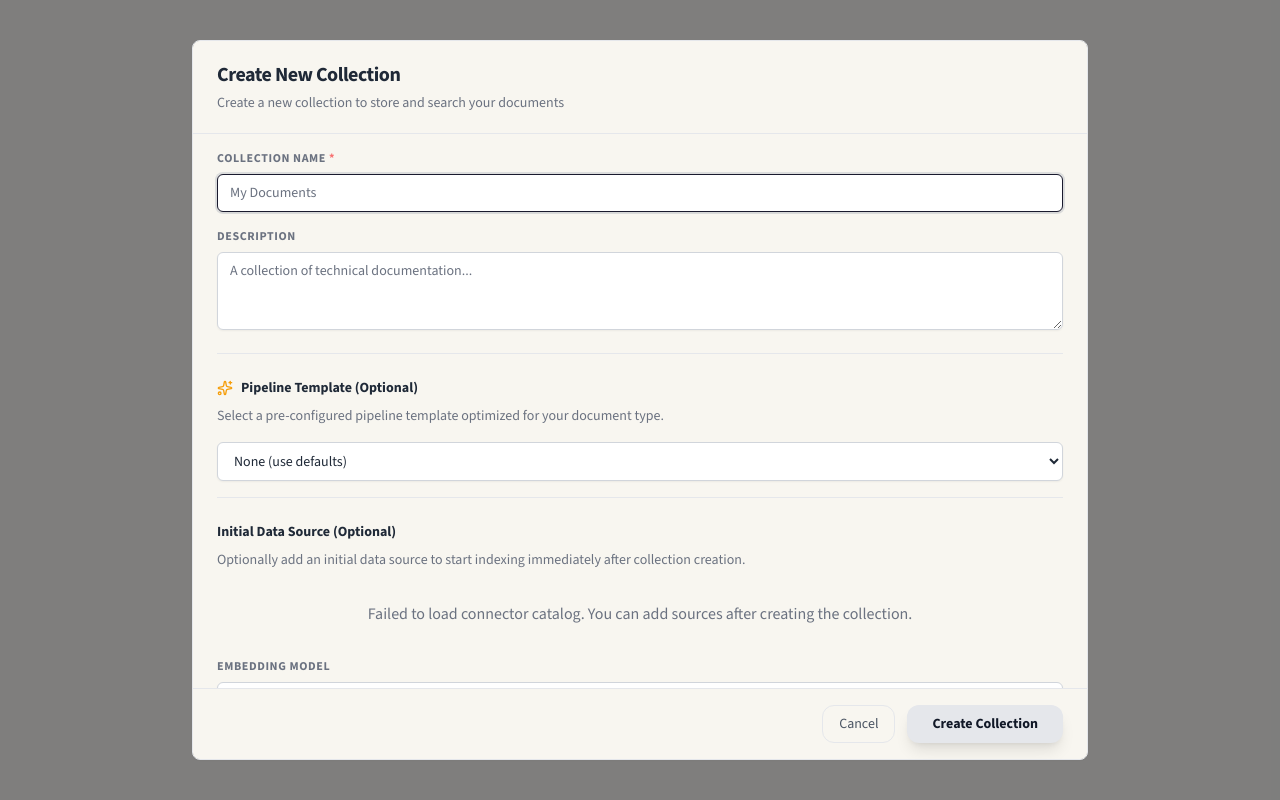
Test: UI Error States › Form Validation Error Display › should show inline validation errors in QuickCreateModal
Submit without filling required fields
Click the button "Create Collection" at point(985, 724), box [908, 705, 1063, 743]
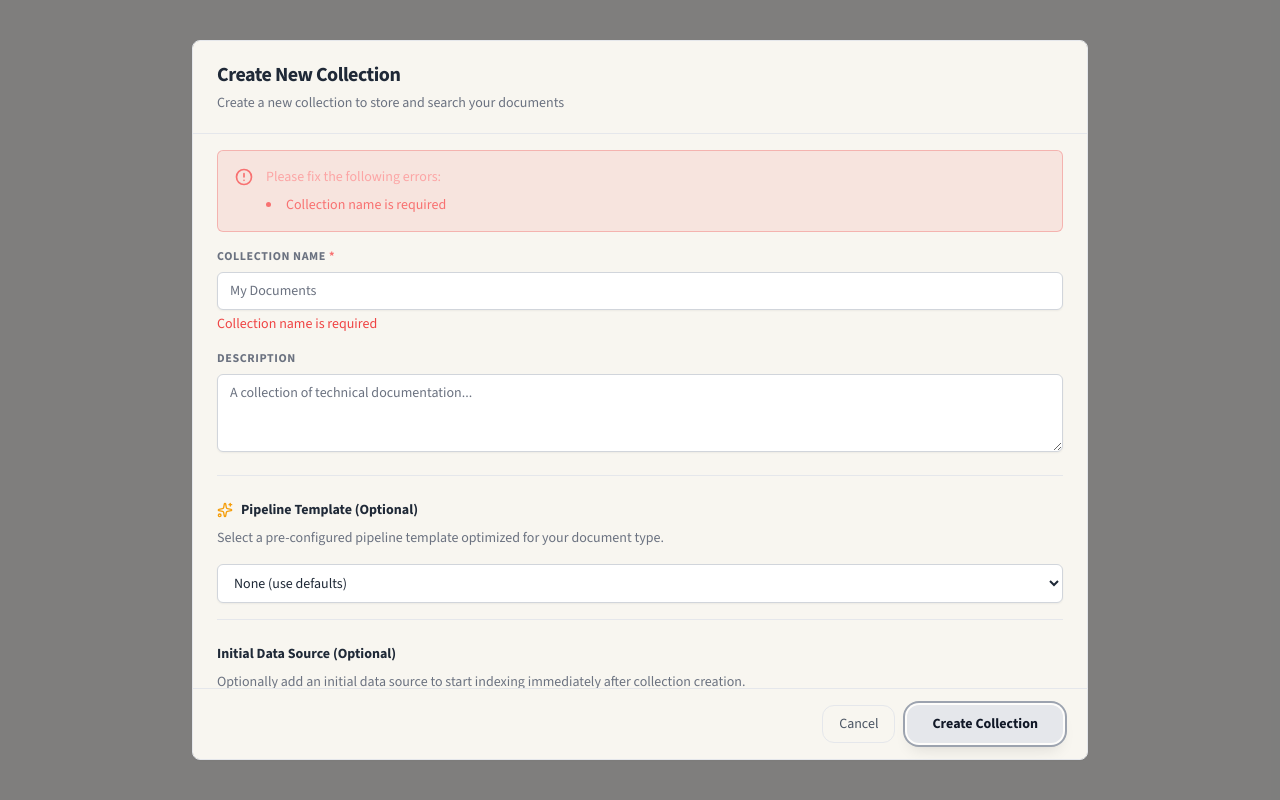
Result: the list item "Collection name is required" is shown at [266, 195, 446, 215]
